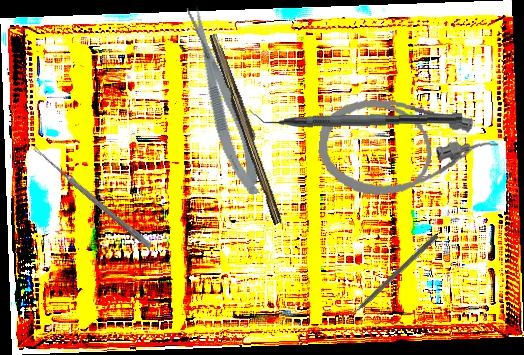Cannula: (314, 92, 502, 208)
Chopper: (248, 98, 463, 131)
Micro Scissor: (179, 0, 269, 200)
Pusher: (340, 232, 440, 325)
Scalpel Handle: (205, 31, 289, 226)
Surgical Spoon: (31, 145, 154, 250)
